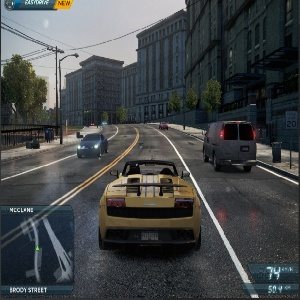building: (186, 6, 300, 121), (125, 17, 187, 126), (58, 58, 122, 125)
garbage: (270, 139, 283, 165), (27, 137, 43, 150)
mailbox: (45, 128, 55, 144)
road sign: (285, 111, 300, 171)
tree: (4, 56, 48, 123), (202, 78, 220, 116), (167, 89, 183, 119), (183, 84, 198, 115), (116, 107, 124, 123)
vehicle: (202, 119, 257, 175), (78, 134, 109, 157), (160, 121, 170, 130)
